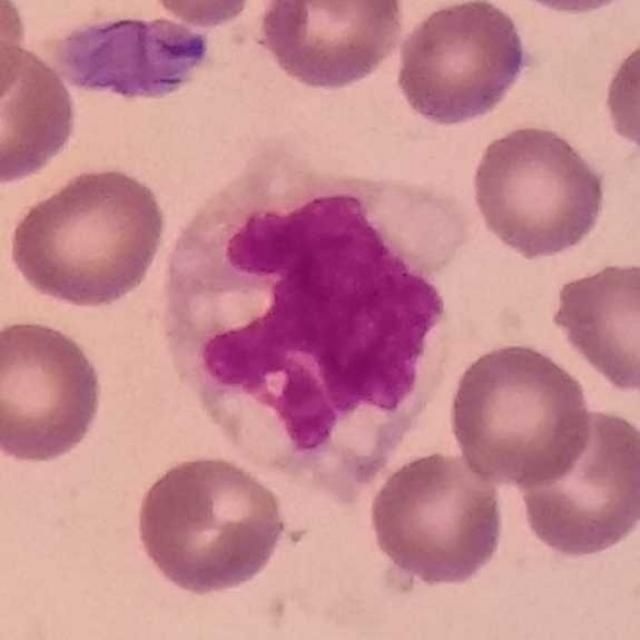mono: (157, 127, 478, 499)
